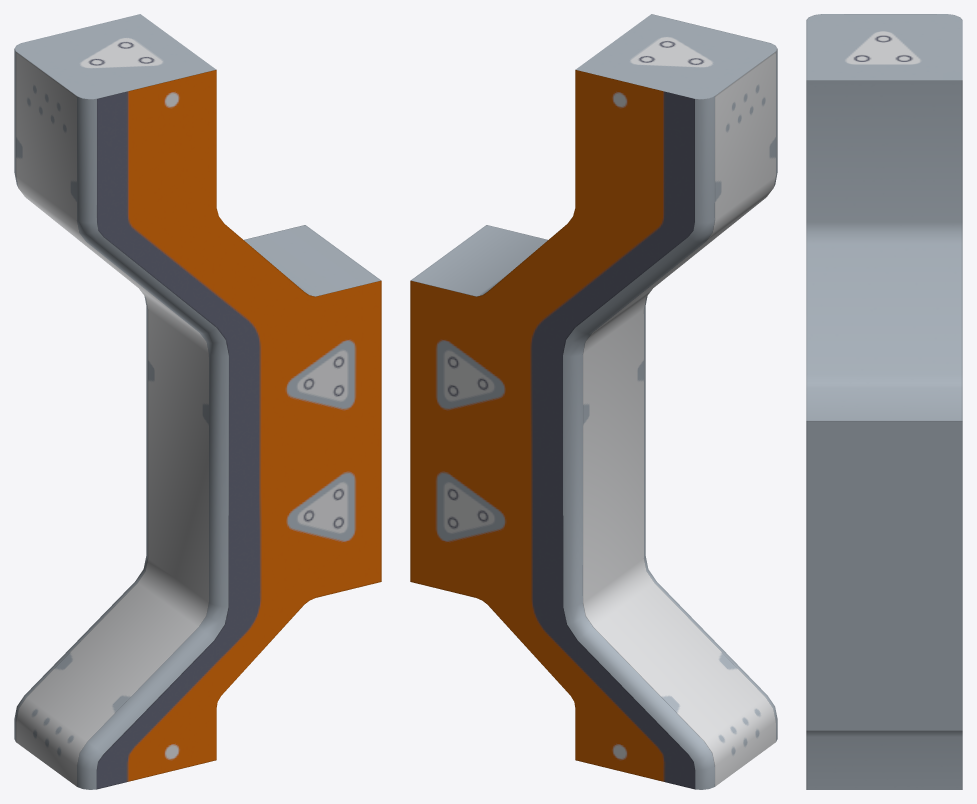
Rendered from Wall_Arch_01.FBX.
3 views of the same model, side by side, from view 1: azimuth 30°, elevation 25°; view 2: azimuth 150°, elevation 25°; view 3: azimuth 270°, elevation 25° (orthographic). The views are drawn at different scales.
Parts seen in each view (by area): view 1: Wall_Arch_01; view 2: Wall_Arch_01; view 3: Wall_Arch_01.
Boxes of the visible parts, x1=… form: Wall_Arch_01: x1=14, y1=14, x2=381, y2=789; Wall_Arch_01: x1=410, y1=14, x2=777, y2=789; Wall_Arch_01: x1=806, y1=14, x2=962, y2=789.
Size of the model in its own units: 2.25 by 5 by 1.
